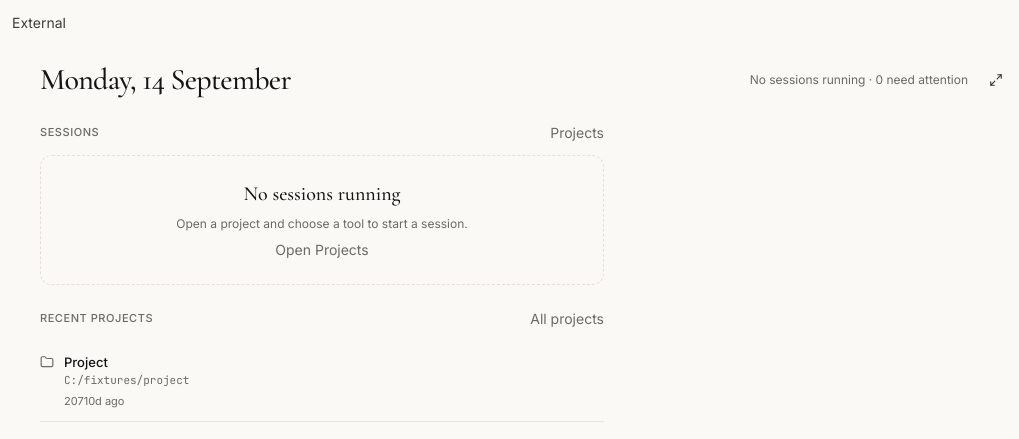
Test case: offers Open Projects only after an empty successful response
Click the link "Open Projects".
click(322, 249)  # box [275,240,369,258]
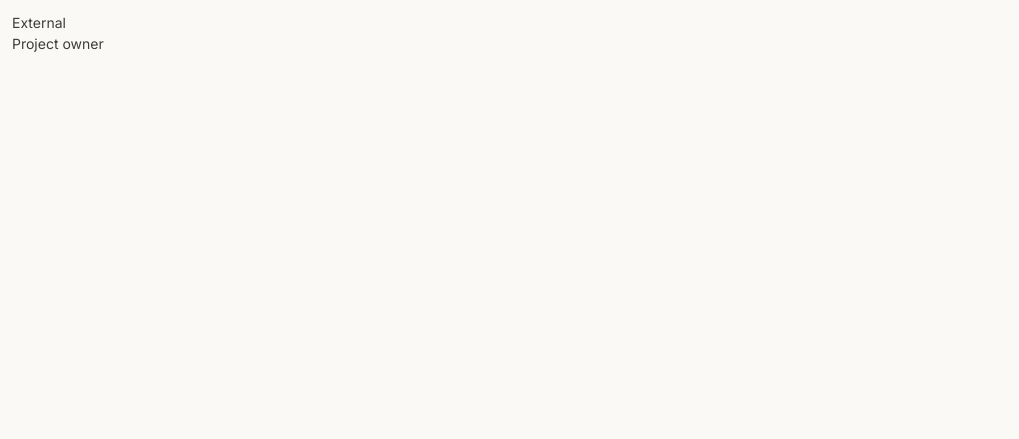
Check: the heading "Project owner" is shown, box [12,35,104,52]
